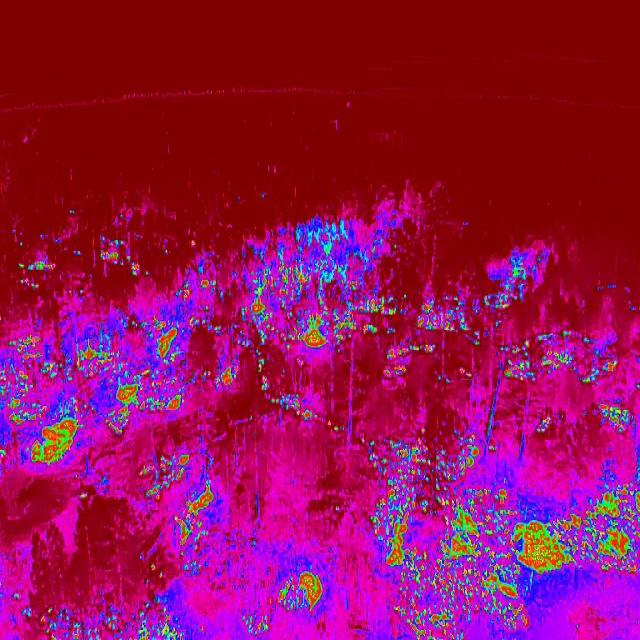fire: (365, 430, 518, 640), (233, 216, 397, 374), (0, 306, 131, 469), (517, 472, 640, 617), (130, 254, 232, 415), (136, 450, 216, 576), (500, 329, 620, 386), (34, 595, 180, 640), (480, 246, 548, 306), (413, 292, 478, 332), (277, 572, 326, 612), (397, 337, 438, 377), (592, 399, 632, 435), (99, 230, 132, 272), (272, 392, 318, 422), (240, 607, 272, 637), (16, 256, 52, 278), (535, 414, 556, 440), (20, 278, 45, 292), (326, 418, 347, 433), (21, 602, 33, 622), (258, 374, 268, 394), (460, 369, 474, 381), (491, 319, 505, 330), (79, 488, 90, 502), (10, 592, 22, 604), (70, 247, 83, 258), (472, 332, 480, 348), (69, 206, 78, 218), (334, 503, 341, 517), (437, 377, 451, 384), (398, 306, 406, 316), (54, 237, 62, 247), (144, 578, 152, 586), (79, 287, 85, 297), (260, 191, 266, 201), (38, 232, 44, 242), (402, 293, 409, 301), (17, 240, 24, 248)
